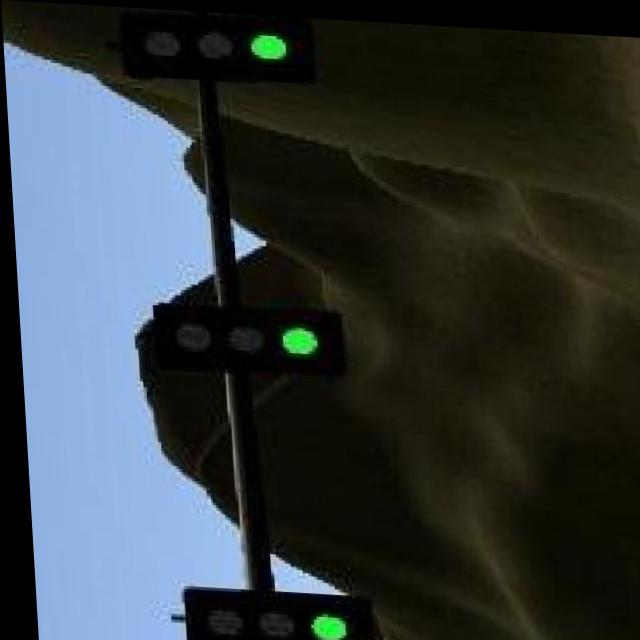green light: (115, 8, 318, 86), (148, 303, 339, 372), (176, 587, 365, 640)
